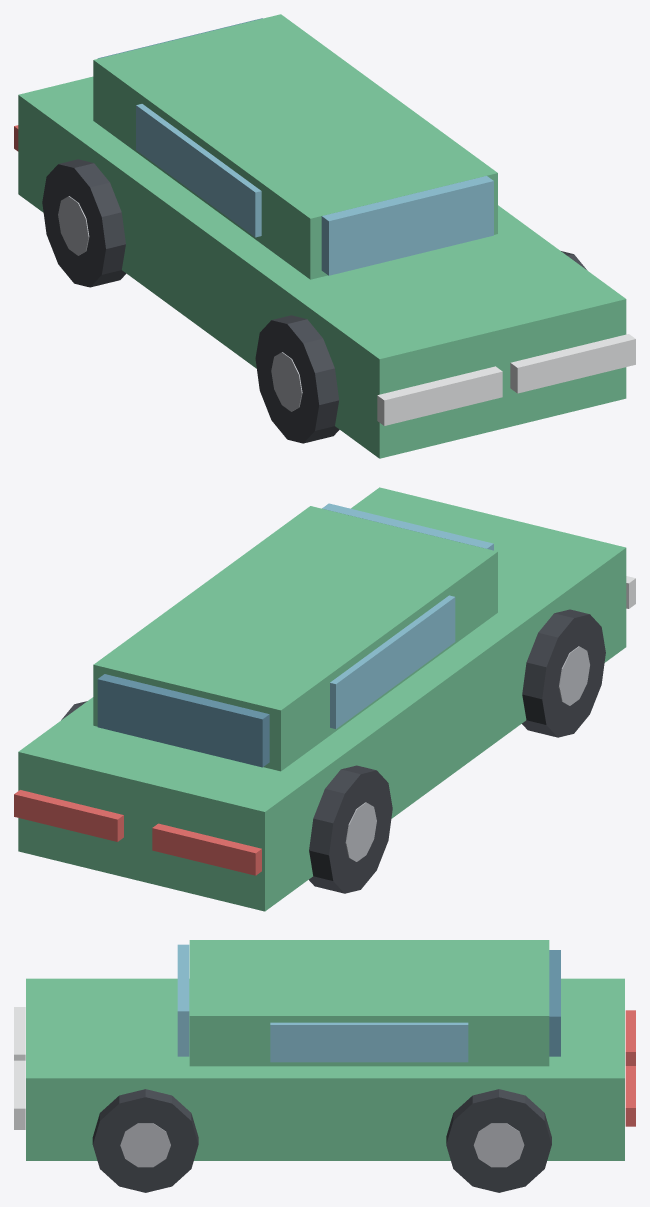
File: traffic_wagon_green.glb
The picture shows the model from 3 angles, top to bottom: view 1: azimuth 30°, elevation 25°; view 2: azimuth 150°, elevation 25°; view 3: azimuth 270°, elevation 25°; orthographic projection. The views are drawn at different scales.
Parts seen in each view (by area): view 1: body_0, roof_1, windshield_2, wheel_FL_6, wheel_RL_10, side_glass_L_4, headlight_R_15, headlight_L_14, rim_FL_7, rim_RL_11; view 2: body_0, roof_1, rear_glass_3, wheel_RL_10, wheel_FL_6, side_glass_L_4, taillight_L_16, taillight_R_17, rim_RL_11, rim_FL_7, windshield_2; view 3: body_0, roof_1, side_glass_R_5, wheel_FR_8, wheel_RR_12, rim_RR_13, rim_FR_9, windshield_2, rear_glass_3, headlight_R_15, taillight_R_17, headlight_L_14 (+1 smaller).
Boxes of the visible parts, x1,y1,x2,y2 form: body_0: (18,76,626,458); roof_1: (93,14,497,279); windshield_2: (321,176,493,275); wheel_FL_6: (255,315,339,443); wheel_RL_10: (42,159,126,287); side_glass_L_4: (136,104,261,237); headlight_R_15: (510,334,635,393); headlight_L_14: (377,366,502,425); rim_FL_7: (271,352,302,411); rim_RL_11: (58,196,89,255); body_0: (18,487,626,911); roof_1: (93,506,497,771); rear_glass_3: (97,674,269,767); wheel_RL_10: (309,765,392,893); wheel_FL_6: (522,609,605,737); side_glass_L_4: (330,595,455,728); taillight_L_16: (152,823,261,875); taillight_R_17: (14,790,123,841); rim_RL_11: (345,802,376,861); rim_FL_7: (559,646,589,705); windshield_2: (322,503,493,550); body_0: (26,978,624,1160); roof_1: (189,940,549,1066); side_glass_R_5: (270,1022,468,1062); wheel_FR_8: (92,1089,198,1192); wheel_RR_12: (446,1089,551,1192); rim_RR_13: (473,1123,524,1167); rim_FR_9: (120,1123,170,1167); windshield_2: (177,944,189,1056); rear_glass_3: (549,950,560,1056); headlight_R_15: (14,1060,25,1129); taillight_R_17: (625,1066,635,1126); headlight_L_14: (14,1007,25,1060).
Size of the model in its own units: 1.88 by 1.18 by 4.24.
